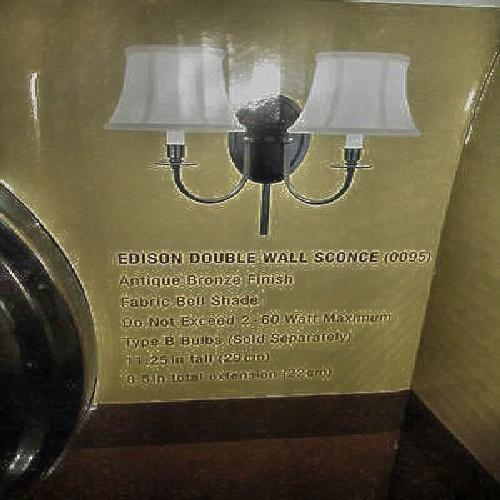lamp: (110, 37, 433, 244)
